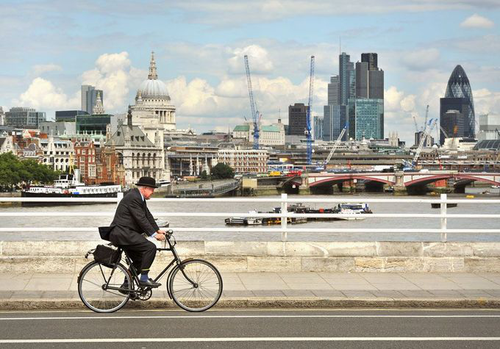bikerider: (63, 176, 233, 315)
